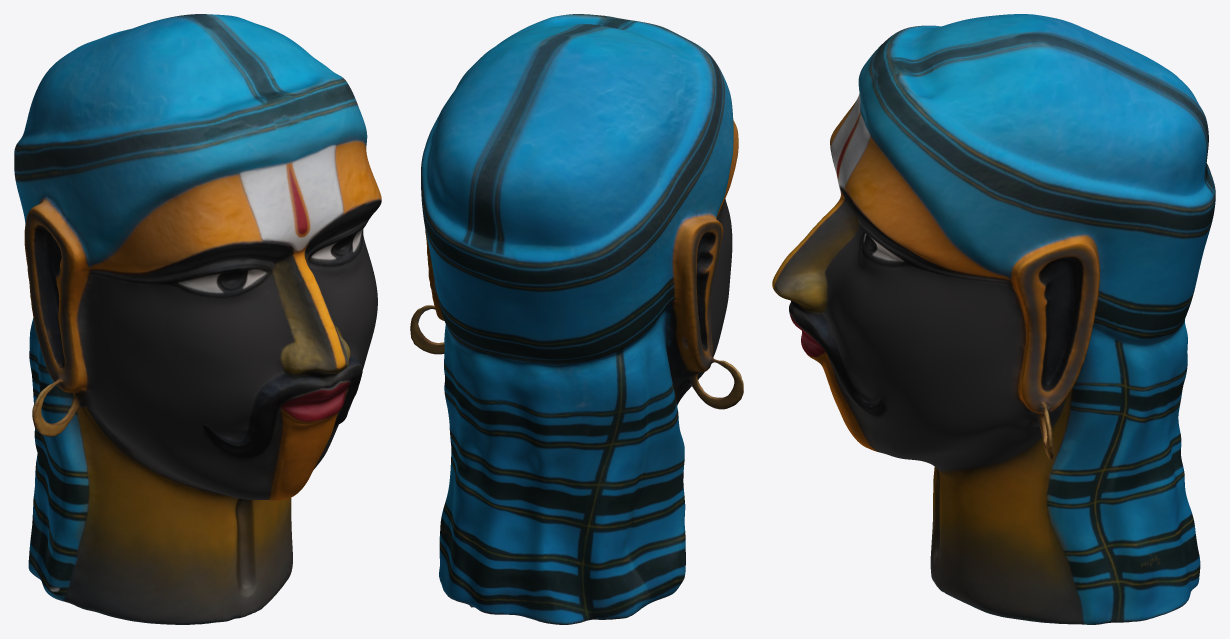
File: thota-male-head-with-blue-turban.glb
The picture shows the model from 3 angles, left to right: view 1: azimuth 30°, elevation 25°; view 2: azimuth 150°, elevation 25°; view 3: azimuth 270°, elevation 25°; orthographic projection. The views are drawn at different scales.
Visible parts, largest first — view 1: Drone - 07; view 2: Drone - 07; view 3: Drone - 07.
Boxes of the visible parts, <box> form: Drone - 07: <box>14,14,381,624</box>; Drone - 07: <box>410,14,743,624</box>; Drone - 07: <box>772,14,1215,624</box>.
Bounding box in the file's own units: 1.56 × 2.46 × 1.8.
Materials: 1 (1 with a texture image).
